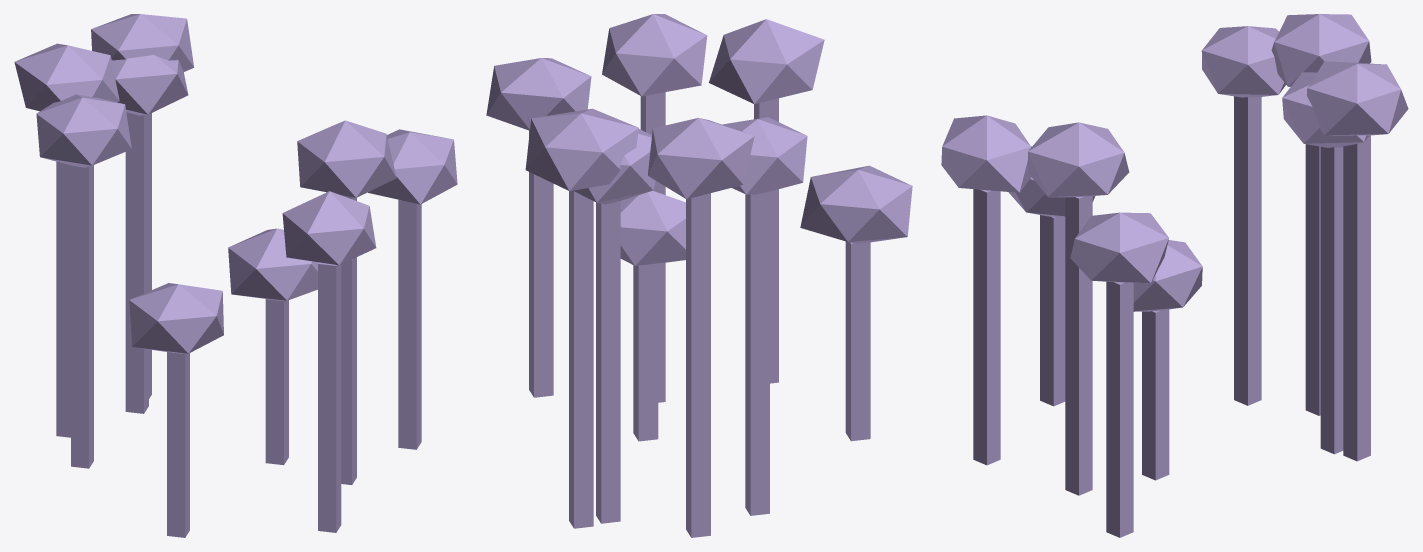
The model's file is flowers.fbx.
The picture shows the model from 3 angles, left to right: view 1: azimuth 30°, elevation 25°; view 2: azimuth 150°, elevation 25°; view 3: azimuth 270°, elevation 25°; orthographic projection. The views are drawn at different scales.
Visible parts, largest first — view 1: flowers; view 2: flowers; view 3: flowers.
Part boxes in pixels (x1,y1,x2,y2): flowers: [14, 14, 457, 537]; flowers: [486, 14, 912, 537]; flowers: [941, 14, 1408, 537].
Size of the model in its own units: 183 by 192 by 205.
